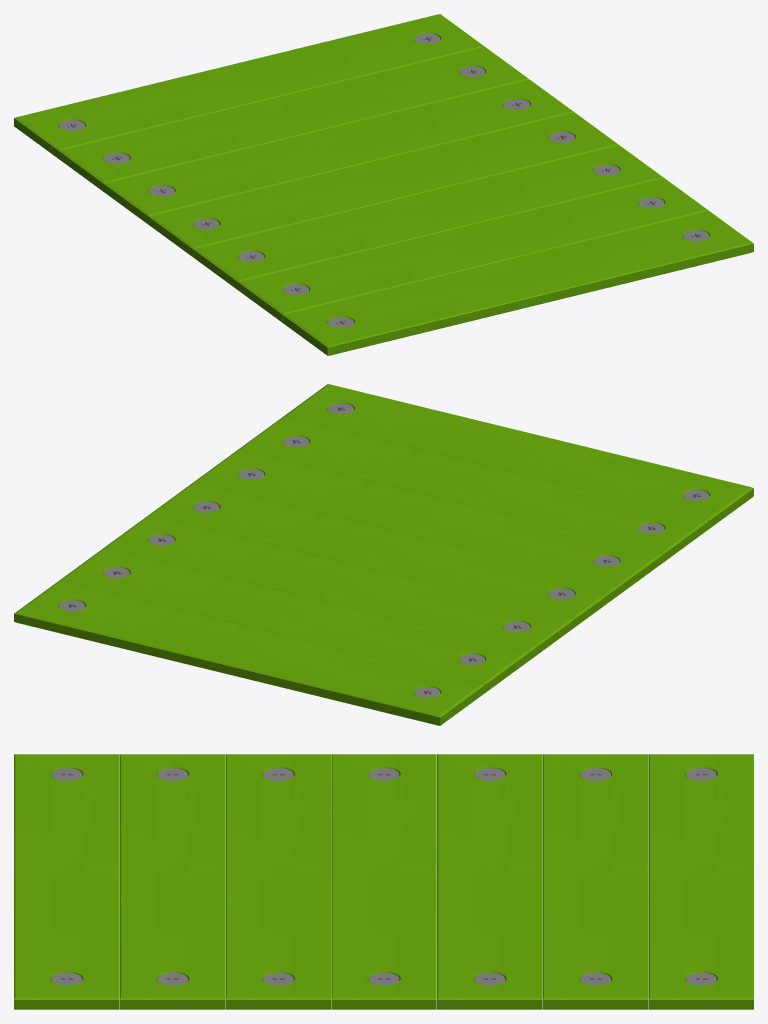
Rendered from BoltedPlankFloorGreen.fbx.
The picture shows the model from 3 angles, top to bottom: view 1: azimuth 30°, elevation 25°; view 2: azimuth 150°, elevation 25°; view 3: azimuth 270°, elevation 25°; orthographic projection. The views are drawn at different scales.
Visible parts, largest first — view 1: Cube, Cube.001; view 2: Cube, Cube.001; view 3: Cube, Cube.001.
Boxes of the visible parts, left/top/right/bottom form: Cube: left=14, top=14, right=753, bottom=355; Cube.001: left=58, top=33, right=709, bottom=327; Cube: left=14, top=384, right=753, bottom=725; Cube.001: left=58, top=403, right=709, bottom=697; Cube: left=14, top=754, right=753, bottom=1009; Cube.001: left=51, top=768, right=716, bottom=985.
Size of the model in its own units: 21.97 by 0.4885 by 27.99.
